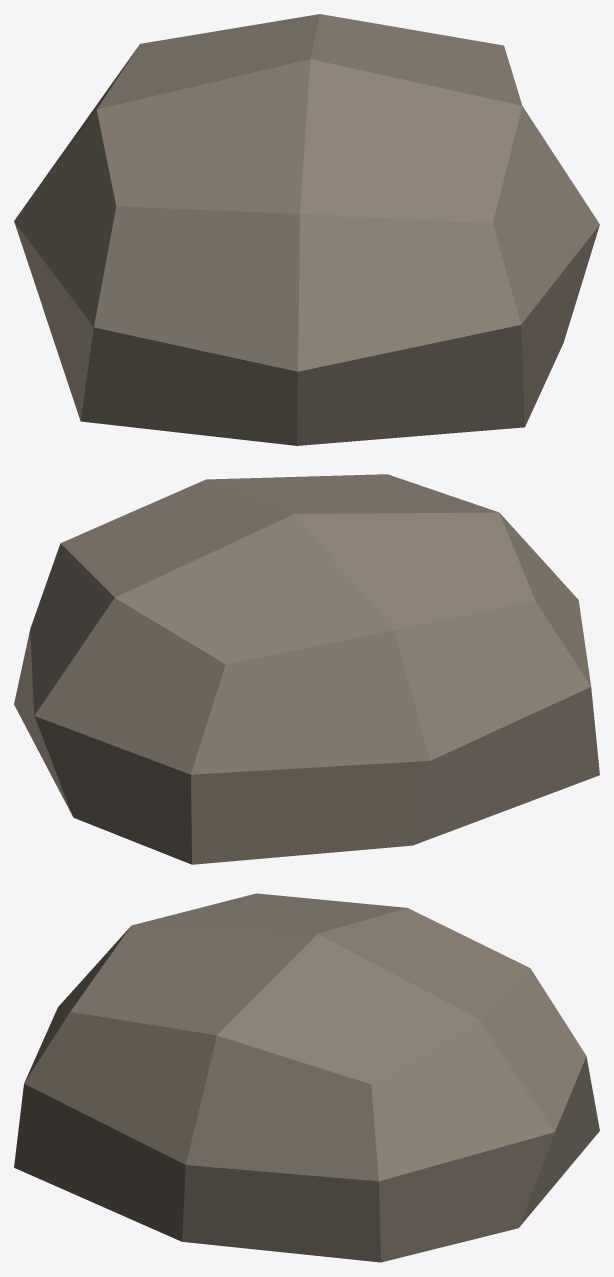
Rendered from stoneD-compressed.glb.
3 views of the same model, one above another, from view 1: azimuth 30°, elevation 25°; view 2: azimuth 150°, elevation 25°; view 3: azimuth 270°, elevation 25° (orthographic). The views are drawn at different scales.
Visible parts, largest first — view 1: stoneD; view 2: stoneD; view 3: stoneD.
Part boxes in pixels (x1,y1,x2,y2): stoneD: (14, 14, 599, 445); stoneD: (14, 474, 599, 864); stoneD: (14, 893, 599, 1262).
Bounding box in the file's own units: 1.24 × 0.6999 × 1.31.
